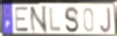0: (83, 7, 95, 34)
E: (14, 6, 30, 33)
J: (99, 7, 112, 35)
L: (49, 6, 63, 34)
N: (29, 5, 48, 34)
S: (64, 6, 80, 34)
